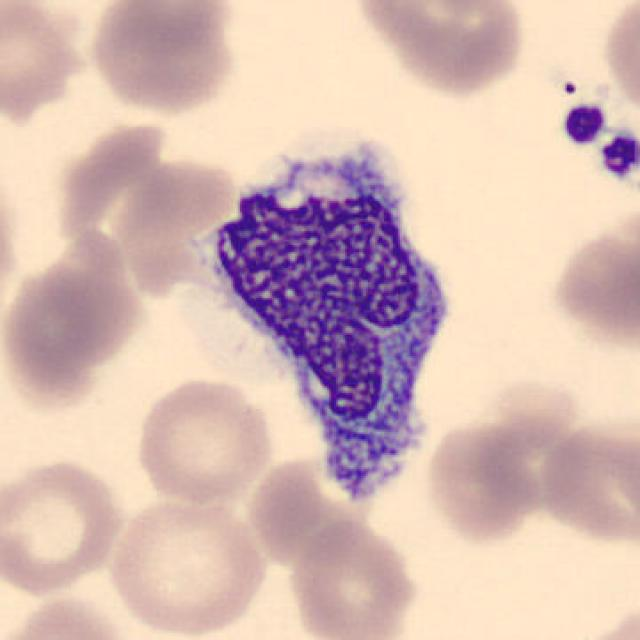Monocyte: (185, 118, 462, 518)
Platelets: (556, 99, 610, 148), (596, 130, 638, 183)
RBC: (105, 492, 270, 638), (0, 250, 146, 412), (132, 374, 276, 506), (84, 0, 240, 118), (0, 455, 128, 598), (348, 0, 529, 100), (282, 516, 421, 640), (422, 411, 548, 545), (546, 205, 640, 362), (124, 159, 230, 289), (534, 416, 638, 548), (0, 0, 92, 132), (1, 590, 133, 640), (597, 0, 640, 127), (565, 597, 639, 640)
